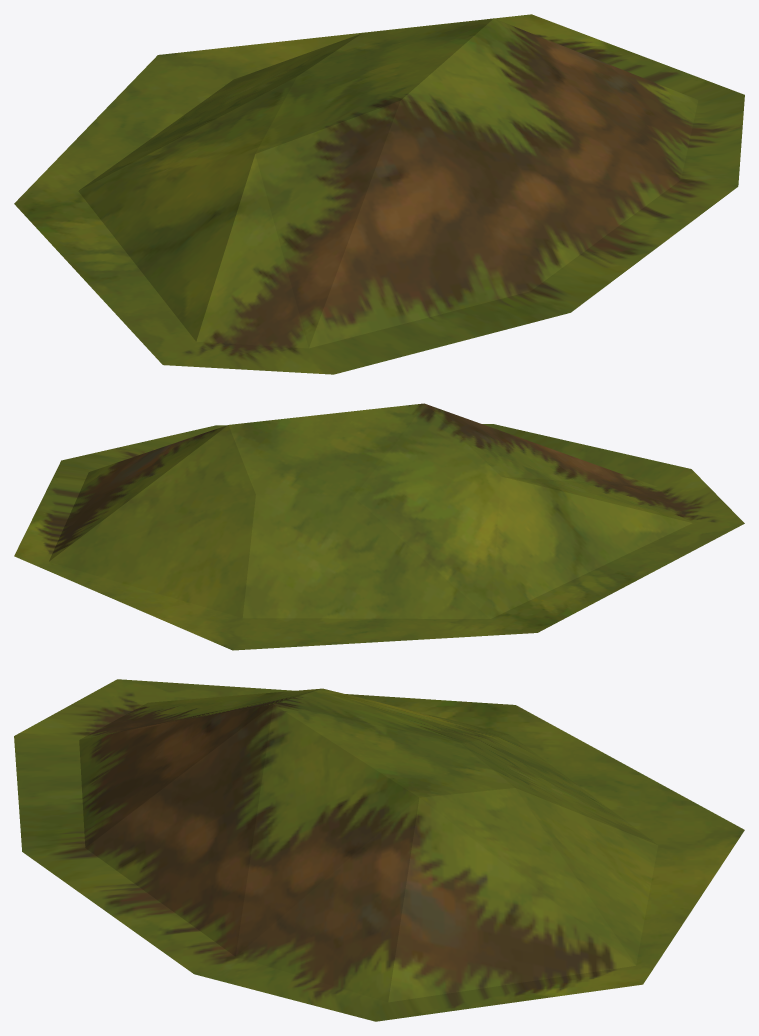
The model's file is miniberm_02.fbx.
3 views of the same model, one above another, from view 1: azimuth 30°, elevation 25°; view 2: azimuth 150°, elevation 25°; view 3: azimuth 270°, elevation 25° (orthographic). The views are drawn at different scales.
Parts seen in each view (by area): view 1: obj0.040; view 2: obj0.040; view 3: obj0.040.
Boxes of the visible parts, bbox=[...] form: obj0.040: bbox=[14, 14, 744, 374]; obj0.040: bbox=[14, 403, 744, 650]; obj0.040: bbox=[14, 679, 744, 1021].
Bounding box in the file's own units: 9.02 × 1.56 × 8.13.
